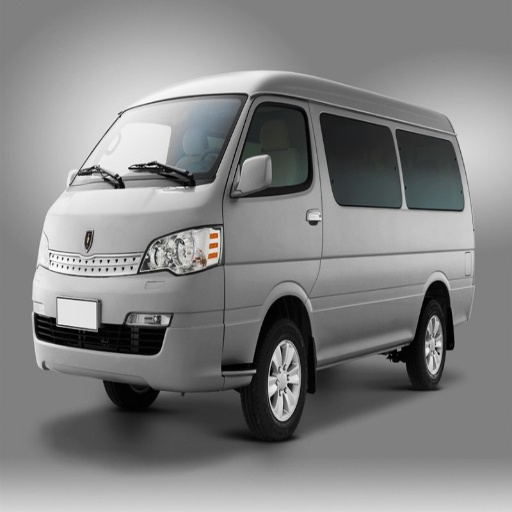front_bumper: (34, 231, 222, 390)
front_glass: (78, 98, 246, 187)
front_left_door: (225, 99, 322, 252)
trunk: (345, 248, 472, 320), (232, 288, 269, 365)
